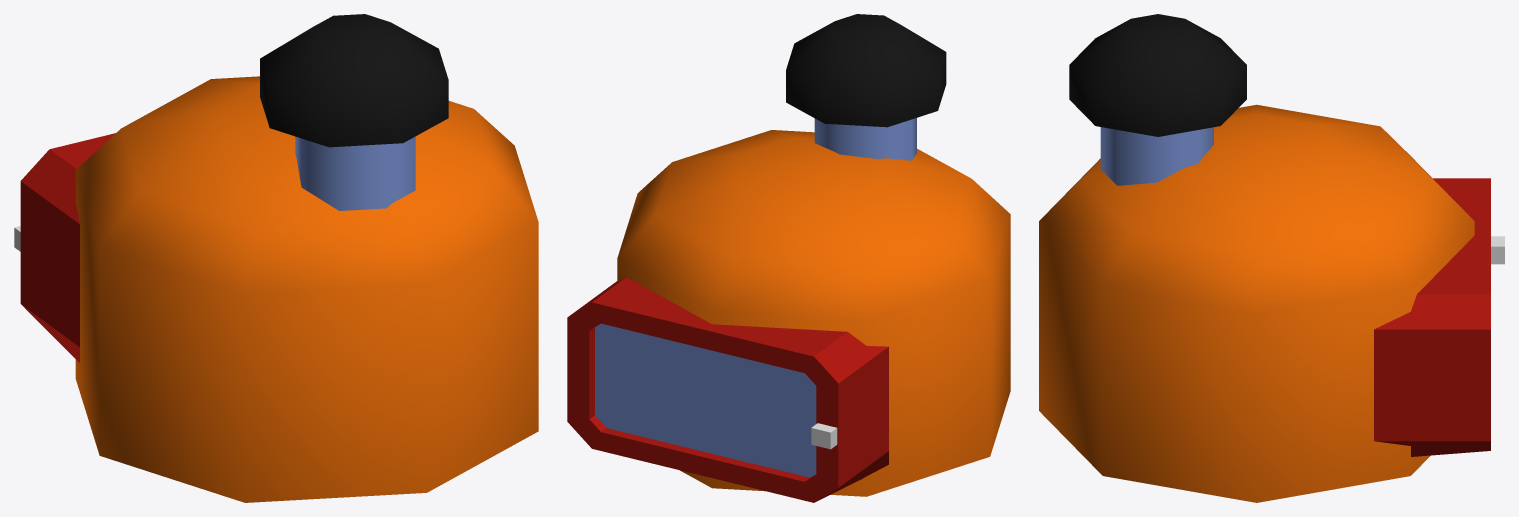
The model's file is pizza machine.FBX.
3 views of the same model, side by side, from view 1: azimuth 30°, elevation 25°; view 2: azimuth 150°, elevation 25°; view 3: azimuth 270°, elevation 25° (orthographic). The views are drawn at different scales.
Visible parts, largest first — view 1: LoNuongBanhPizza001, Cylinder050, Box226, Cylinder049; view 2: LoNuongBanhPizza001, Box226, Cylinder050, Cylinder049, Box227; view 3: LoNuongBanhPizza001, Box226, Cylinder050, Cylinder049.
Part boxes in pixels (x1,y1,x2,y2): LoNuongBanhPizza001: (75,76,538,502); Cylinder050: (260,14,448,147); Box226: (20,133,115,362); Cylinder049: (295,136,415,210); LoNuongBanhPizza001: (595,130,1010,496); Box226: (567,277,888,502); Cylinder050: (786,14,946,127); Cylinder049: (814,118,916,160); Box227: (811,423,837,449); LoNuongBanhPizza001: (1039,104,1474,502); Box226: (1374,178,1490,456); Cylinder050: (1069,14,1246,136); Cylinder049: (1100,127,1213,185).
Bounding box in the file's own units: 1.44 × 1.38 × 1.54.
